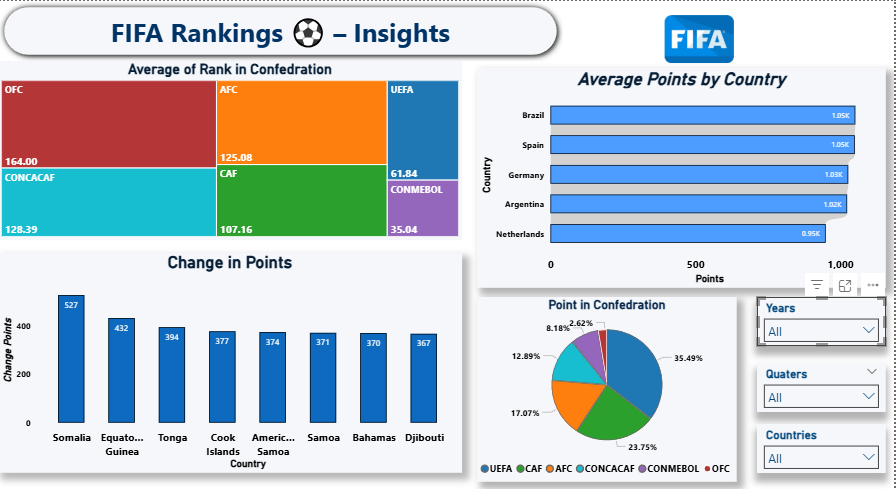

Layout of this report page (visuals, bound fields, positions):
{"tool":"powerbi","page":{"name":"Page 2","canvas":[1280,720],"ordinal":2},"visuals":[{"type":"shape","box":[0,0,807.1,85.7],"z":0},{"type":"barChart","title":"Average Points by Country","fields":{"Category":["DIM_COUNTRY.COUNTRY_FULL"],"Y":["Avg(FACT_FIFA_RANKING.TOTAL_POINTS)"]},"box":[684.3,95.7,584.3,314.3],"z":1},{"type":"pieChart","title":"Point in Confedration","fields":{"Category":["DIM_CONFEDERATION.CONFEDERATION"],"Y":["Sum(FACT_FIFA_RANKING.TOTAL_POINTS)"]},"box":[684.3,422.9,371.4,264.3],"z":2},{"type":"columnChart","title":"Change in Points","fields":{"Category":["DIM_COUNTRY.COUNTRY_FULL"],"Y":["Sum(FACT_FIFA_RANKING.RANK_CHANGE)"]},"box":[0,360,662.9,314.3],"z":3},{"type":"treemap","title":"Average of Rank in  Confedration","fields":{"Group":["DIM_CONFEDERATION.CONFEDERATION"],"Values":["Avg(FACT_FIFA_RANKING.RANK)"]},"box":[0,85.7,662.9,255.7],"z":4},{"type":"slicer","fields":{"Values":["DIM_DATE.YEAR"]},"box":[1084.3,422.9,184.3,70],"z":5},{"type":"slicer","fields":{"Values":["DIM_DATE.QUARTER"]},"box":[1084.3,517.1,184.3,70],"z":6},{"type":"slicer","fields":{"Values":["DIM_COUNTRY.COUNTRY_FULL"]},"box":[1084.3,604.3,184.3,70],"z":7},{"type":"image","box":[724.3,0,555.7,108.6],"z":8}]}

Visuals, with their boxes on the page's 1280x720 design canvas (x1, y1, x2, y2). These are canvas units, not pixel positions in the 896x489 screenshot, which may show the page scaled, cropped or inside an application window:
shape: BBox(0, 0, 807, 86)
"Average Points by Country" barChart: BBox(684, 96, 1269, 410)
"Point in Confedration" pieChart: BBox(684, 423, 1056, 687)
"Change in Points" columnChart: BBox(0, 360, 663, 674)
"Average of Rank in  Confedration" treemap: BBox(0, 86, 663, 341)
slicer - DIM_DATE.YEAR: BBox(1084, 423, 1269, 493)
slicer - DIM_DATE.QUARTER: BBox(1084, 517, 1269, 587)
slicer - DIM_COUNTRY.COUNTRY_FULL: BBox(1084, 604, 1269, 674)
image: BBox(724, 0, 1280, 109)
